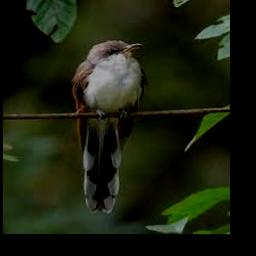Cuckoo: (72, 40, 148, 215)
